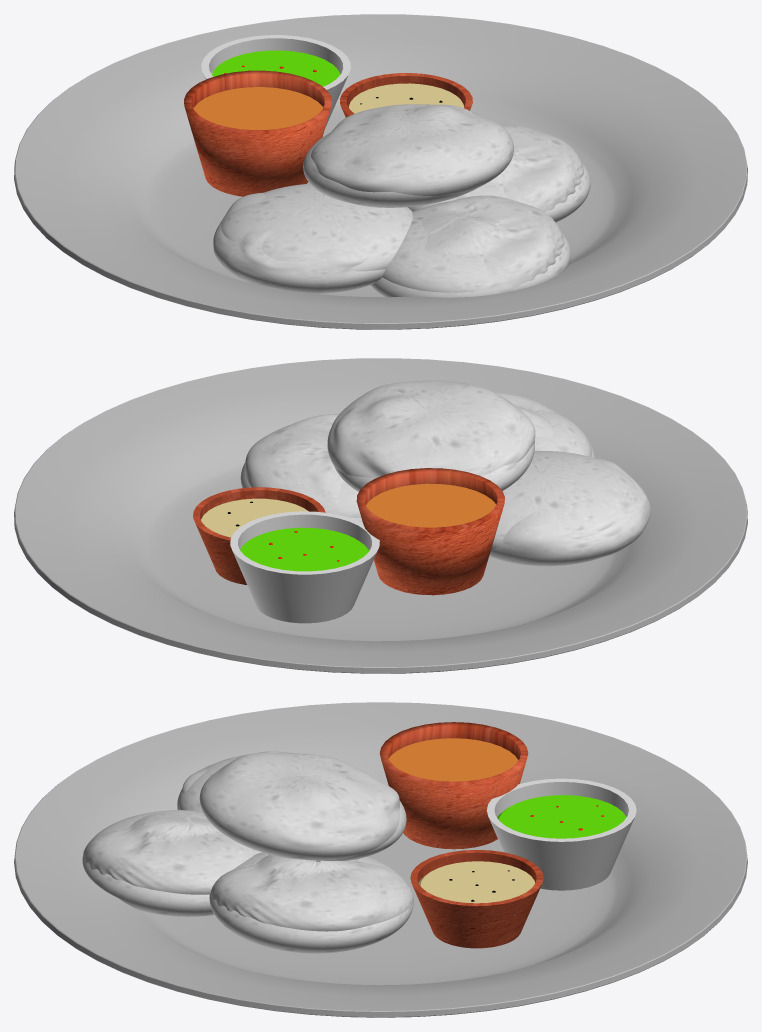
File: iddily newest.glb
The picture shows the model from 3 angles, top to bottom: view 1: azimuth 30°, elevation 25°; view 2: azimuth 150°, elevation 25°; view 3: azimuth 270°, elevation 25°; orthographic projection.
Parts seen in each view (by area): view 1: plate, Sphere.009, Circle.001, Sphere.006_Material.016_0.001, Sphere.003_Material.004_0.001, Sphere.008, Sphere.007, Sphere.003_Material.004_0.002, Sphere.006, Sphere.010, Sphere.004, Sphere.003; view 2: plate, Sphere.009, Circle.001, Sphere.007, Sphere.003_Material.004_0.001, Sphere.008, Sphere.006, Sphere.010, Sphere.003_Material.004_0.002, Sphere.004, Sphere.003, Sphere.006_Material.016_0.001; view 3: plate, Sphere.009, Circle.001, Sphere.007, Sphere.006, Sphere.010, Sphere.006_Material.016_0.001, Sphere.003, Sphere.003_Material.004_0.002, Sphere.003_Material.004_0.001, Sphere.004.
Part boxes in pixels (<box>): plate: <box>14,14,747,329</box>; Sphere.009: <box>311,104,513,196</box>; Circle.001: <box>184,70,332,196</box>; Sphere.006_Material.016_0.001: <box>370,195,564,297</box>; Sphere.003_Material.004_0.001: <box>221,183,412,271</box>; Sphere.008: <box>213,192,385,293</box>; Sphere.007: <box>201,35,350,127</box>; Sphere.003_Material.004_0.002: <box>382,216,570,292</box>; Sphere.006: <box>486,124,583,211</box>; Sphere.010: <box>340,73,472,117</box>; Sphere.004: <box>303,133,476,207</box>; Sphere.003: <box>408,163,590,222</box>; plate: <box>14,358,747,673</box>; Sphere.009: <box>327,380,535,477</box>; Circle.001: <box>356,468,504,595</box>; Sphere.007: <box>230,511,379,623</box>; Sphere.003_Material.004_0.001: <box>491,451,637,548</box>; Sphere.008: <box>489,457,650,566</box>; Sphere.006: <box>245,414,362,522</box>; Sphere.010: <box>193,487,325,584</box>; Sphere.003_Material.004_0.002: <box>528,409,591,456</box>; Sphere.004: <box>334,441,534,491</box>; Sphere.003: <box>240,463,361,517</box>; Sphere.006_Material.016_0.001: <box>494,392,594,457</box>; plate: <box>14,702,747,1017</box>; Sphere.009: <box>199,752,399,860</box>; Circle.001: <box>379,722,528,849</box>; Sphere.007: <box>486,778,636,890</box>; Sphere.006: <box>210,854,413,931</box>; Sphere.010: <box>410,850,543,948</box>; Sphere.006_Material.016_0.001: <box>83,812,261,894</box>; Sphere.003: <box>209,852,413,953</box>; Sphere.003_Material.004_0.002: <box>82,810,214,916</box>; Sphere.003_Material.004_0.001: <box>178,752,298,813</box>; Sphere.004: <box>269,800,406,862</box>.
Size of the model in its own units: 189 by 35.12 by 189.
13 materials, 5 textured.
